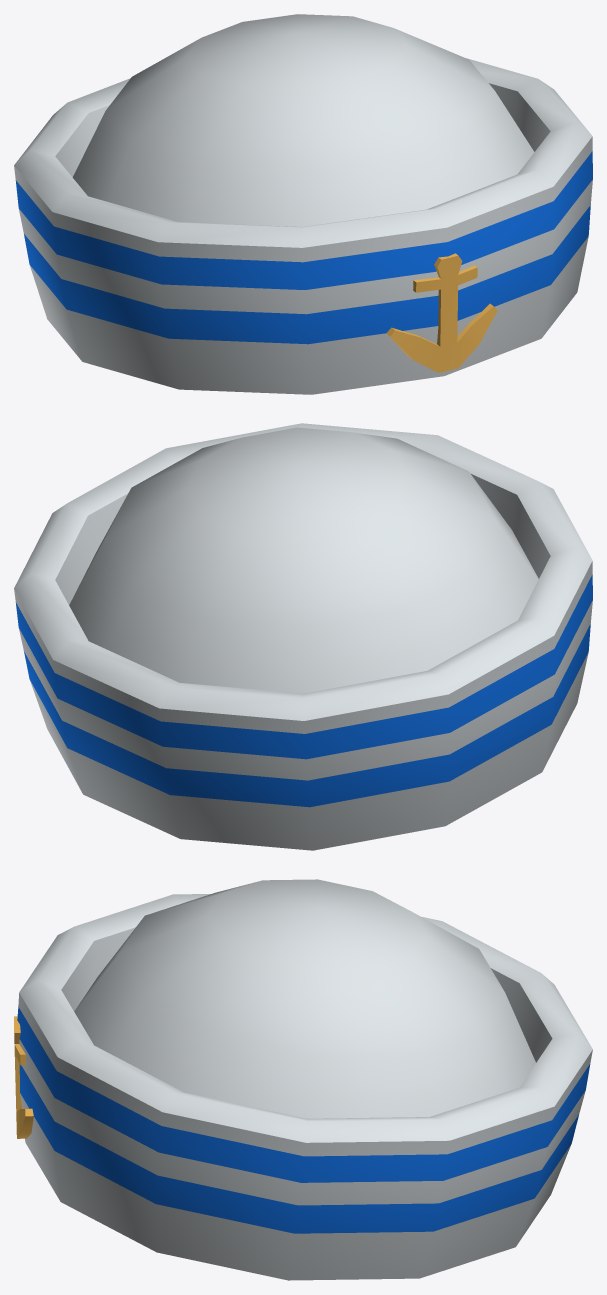
Rendered from Headgear_30.fbx.
The picture shows the model from 3 angles, top to bottom: view 1: azimuth 30°, elevation 25°; view 2: azimuth 150°, elevation 25°; view 3: azimuth 270°, elevation 25°; orthographic projection.
Parts seen in each view (by area): view 1: Headgear_30; view 2: Headgear_30; view 3: Headgear_30.
Part boxes in pixels (x1,y1,x2,y2): Headgear_30: [14, 14, 592, 394]; Headgear_30: [14, 423, 592, 850]; Headgear_30: [14, 879, 592, 1280].
Bounding box in the file's own units: 92.07 × 50.24 × 92.35.
